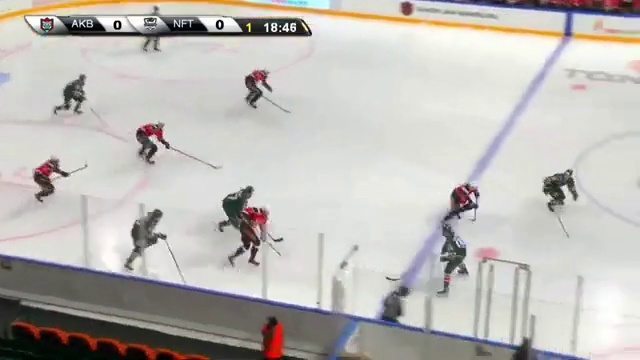gates: (114, 195, 157, 264), (429, 221, 473, 282), (210, 190, 246, 240), (54, 68, 91, 115), (538, 165, 576, 210)
team_1: (382, 282, 414, 327), (141, 0, 163, 46)
team_2: (23, 148, 67, 204), (228, 201, 268, 256), (443, 181, 485, 222), (130, 112, 164, 155), (238, 55, 268, 103)
